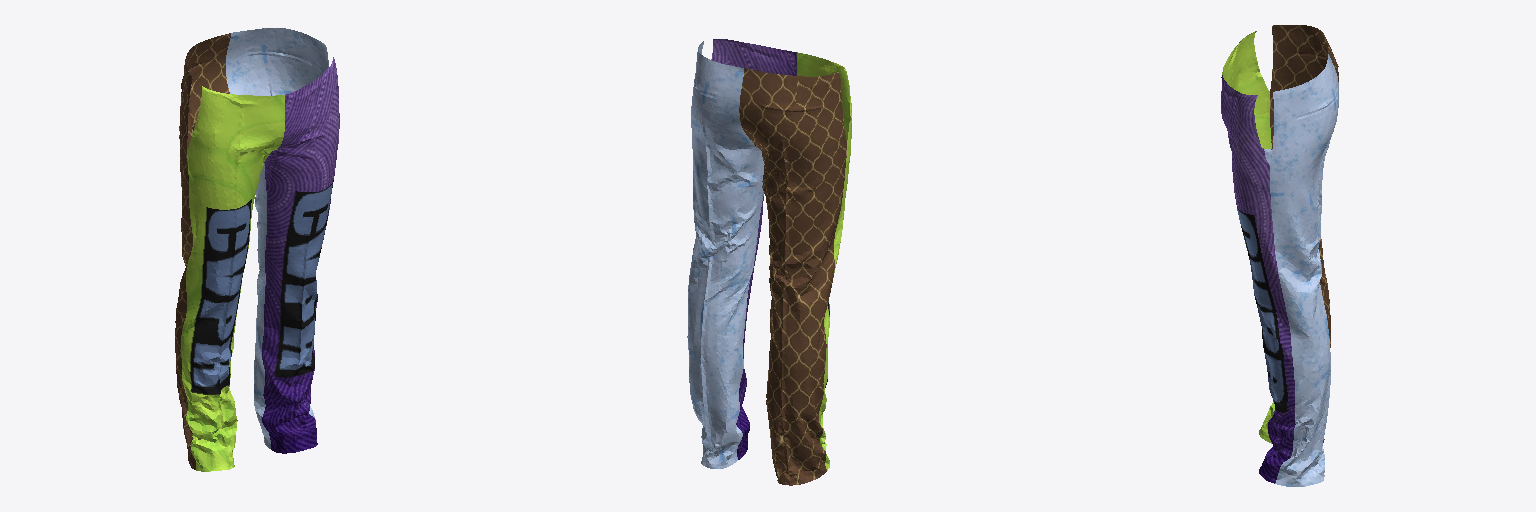
3 views of the same model, side by side, from view 1: azimuth 30°, elevation 25°; view 2: azimuth 150°, elevation 25°; view 3: azimuth 270°, elevation 25° (orthographic).
Size of the model in its own units: 0.3172 by 0.8417 by 0.2191.
1 materials, 1 textured.